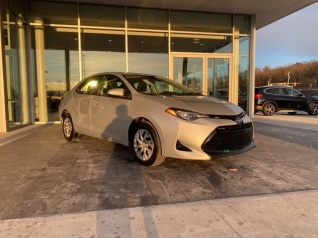Toyota Prius: (58, 72, 255, 167)
